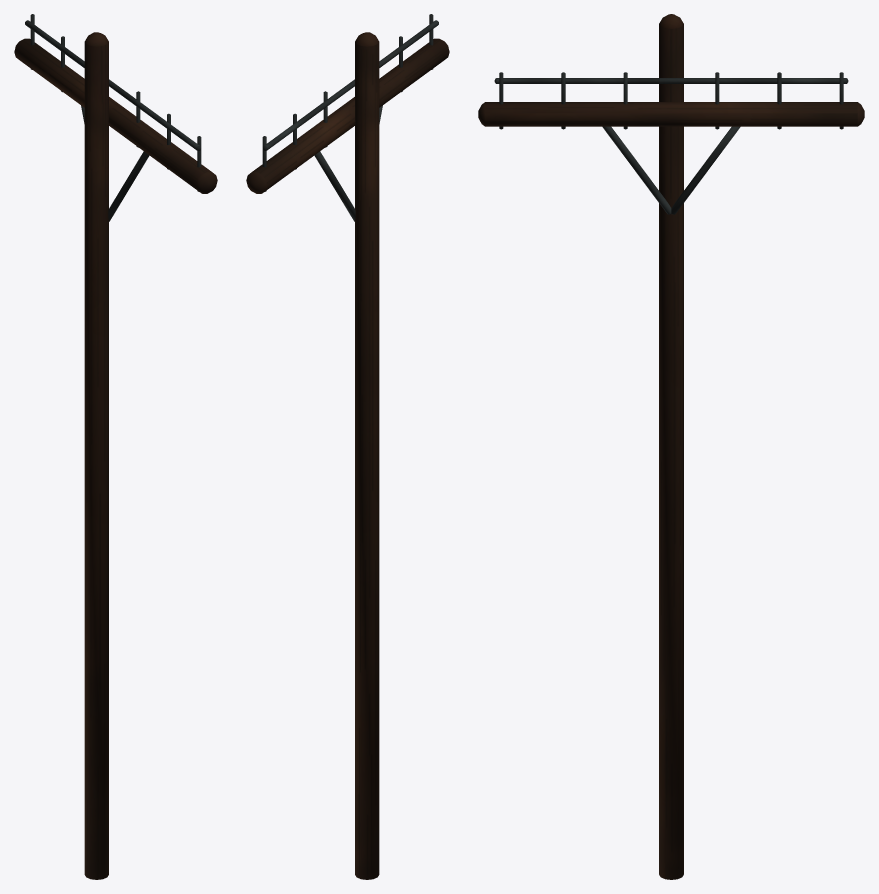
File: POSTE.fbx
The picture shows the model from 3 angles, left to right: view 1: azimuth 30°, elevation 25°; view 2: azimuth 150°, elevation 25°; view 3: azimuth 270°, elevation 25°; orthographic projection. The views are drawn at different scales.
Parts seen in each view (by area): view 1: poste, ferro poste; view 2: poste, ferro poste; view 3: poste, ferro poste.
Boxes of the visible parts, x1=… form: poste: x1=14, y1=32, x2=217, y2=879; ferro poste: x1=25, y1=14, x2=201, y2=221; poste: x1=246, y1=32, x2=449, y2=879; ferro poste: x1=262, y1=14, x2=438, y2=221; poste: x1=478, y1=14, x2=864, y2=879; ferro poste: x1=494, y1=72, x2=848, y2=214.
Size of the model in its own units: 48.41 by 971 by 395.
Materials: 2 (2 with a texture image).
